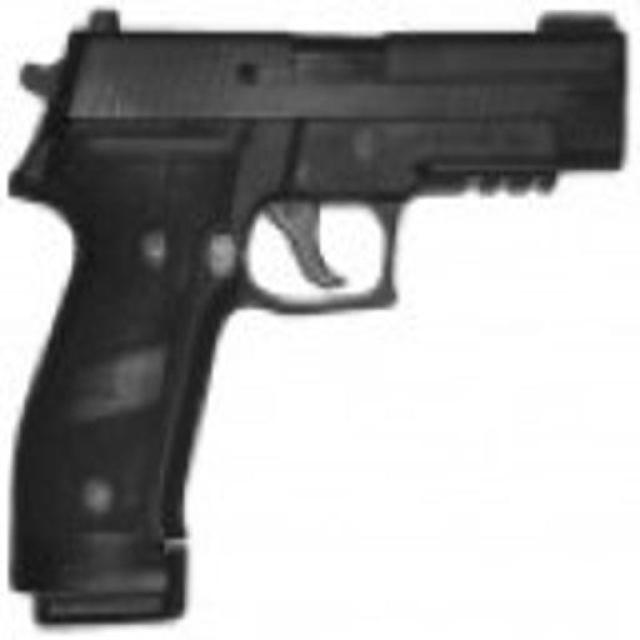pistol: (15, 5, 627, 624)
